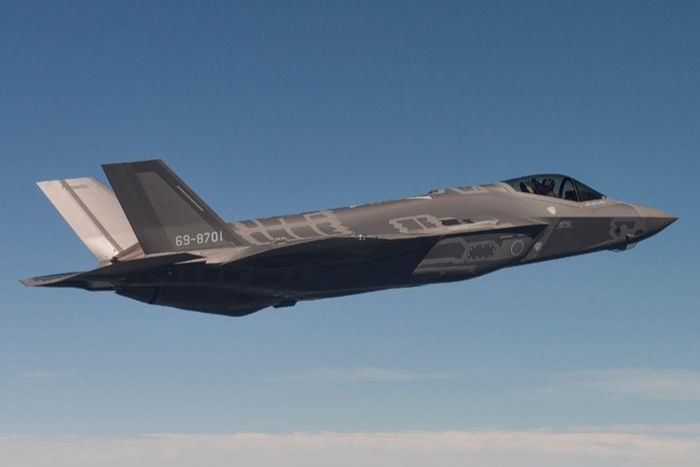F-35 Lightning: (13, 130, 692, 338)
